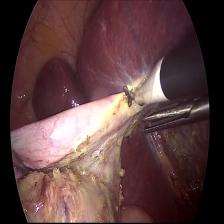Grasper: (135, 93, 210, 148), (16, 142, 37, 193)
Hook: (120, 56, 167, 109)
